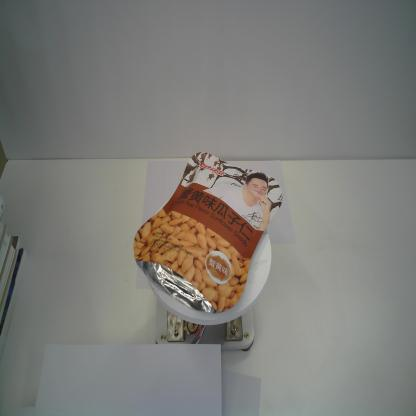Dried Fruit: (133, 151, 283, 314)
